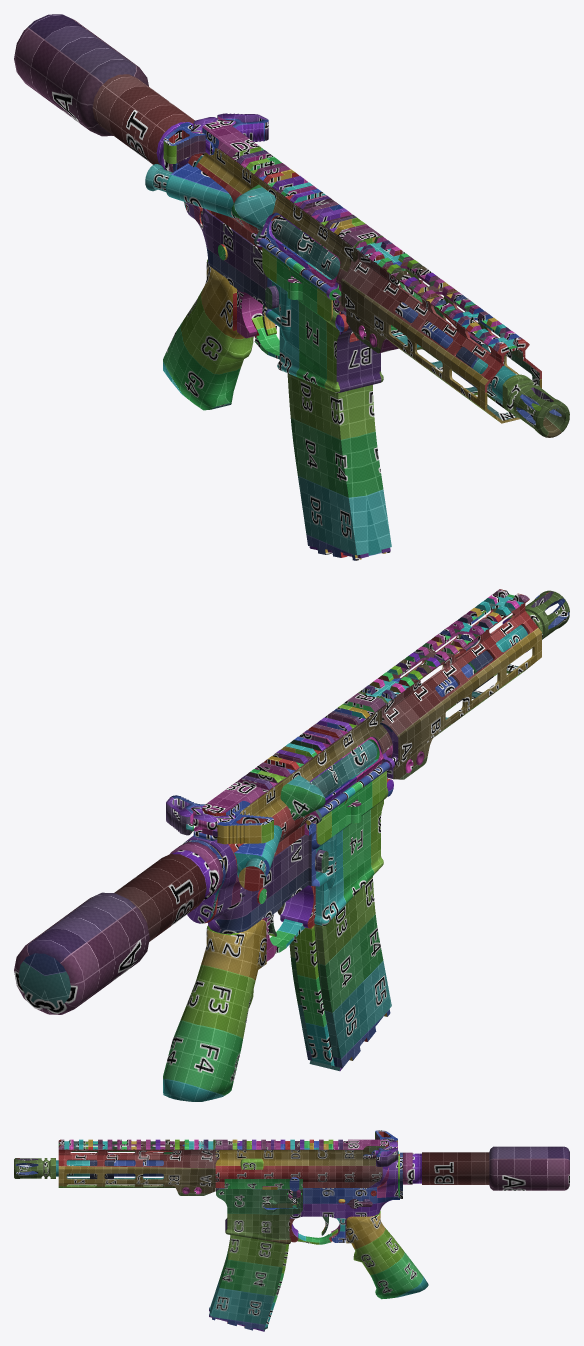
File: lima.glb
3 renders of one model, top to bottom at view 1: azimuth 30°, elevation 25°; view 2: azimuth 150°, elevation 25°; view 3: azimuth 270°, elevation 25°, orthographic. The views are drawn at different scales.
Parts seen in each view (by area): view 1: body, handguard, mag, buffer tube, grip, comp, dcover, barrel, LP Del-Ton Lima AR-15.016, ch r, ch l; view 2: body, buffer tube, handguard, mag, grip, dcover, ch r, LP Del-Ton Lima AR-15.016, comp, barrel, ch l, fassist (+1 smaller); view 3: body, handguard, buffer tube, mag, grip, barrel, comp, ch l.
Boxes of the visible parts, <box> form: body: <box>166,121,383,393</box>; handguard: <box>341,235,541,423</box>; mag: <box>287,373,391,560</box>; buffer tube: <box>14,14,194,172</box>; grip: <box>163,259,253,410</box>; comp: <box>502,374,569,437</box>; dcover: <box>258,238,332,320</box>; barrel: <box>395,302,516,400</box>; LP Del-Ton Lima AR-15.016: <box>271,216,340,279</box>; ch r: <box>163,122,205,163</box>; ch l: <box>217,113,268,141</box>; body: <box>182,693,394,961</box>; buffer tube: <box>14,842,223,1014</box>; handguard: <box>358,589,541,779</box>; mag: <box>289,876,391,1071</box>; grip: <box>163,919,266,1101</box>; dcover: <box>316,761,390,844</box>; ch r: <box>202,811,273,844</box>; LP Del-Ton Lima AR-15.016: <box>310,740,377,796</box>; comp: <box>502,590,569,652</box>; barrel: <box>435,625,527,696</box>; ch l: <box>166,795,204,835</box>; fassist: <box>238,858,266,891</box>; body: <box>215,1139,402,1244</box>; handguard: <box>58,1139,219,1195</box>; buffer tube: <box>402,1146,569,1190</box>; mag: <box>209,1235,288,1331</box>; grip: <box>346,1211,428,1299</box>; barrel: <box>56,1151,172,1179</box>; comp: <box>14,1158,55,1178</box>; ch l: <box>363,1148,398,1166</box>.
Size of the model in its own units: 35.7 by 106 by 289.
1 material, 1 textured.
